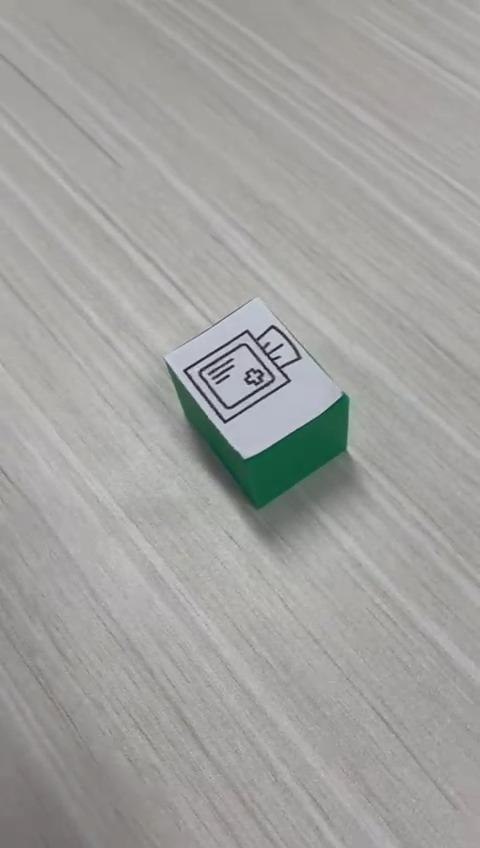Gauze: (161, 295, 350, 510)
